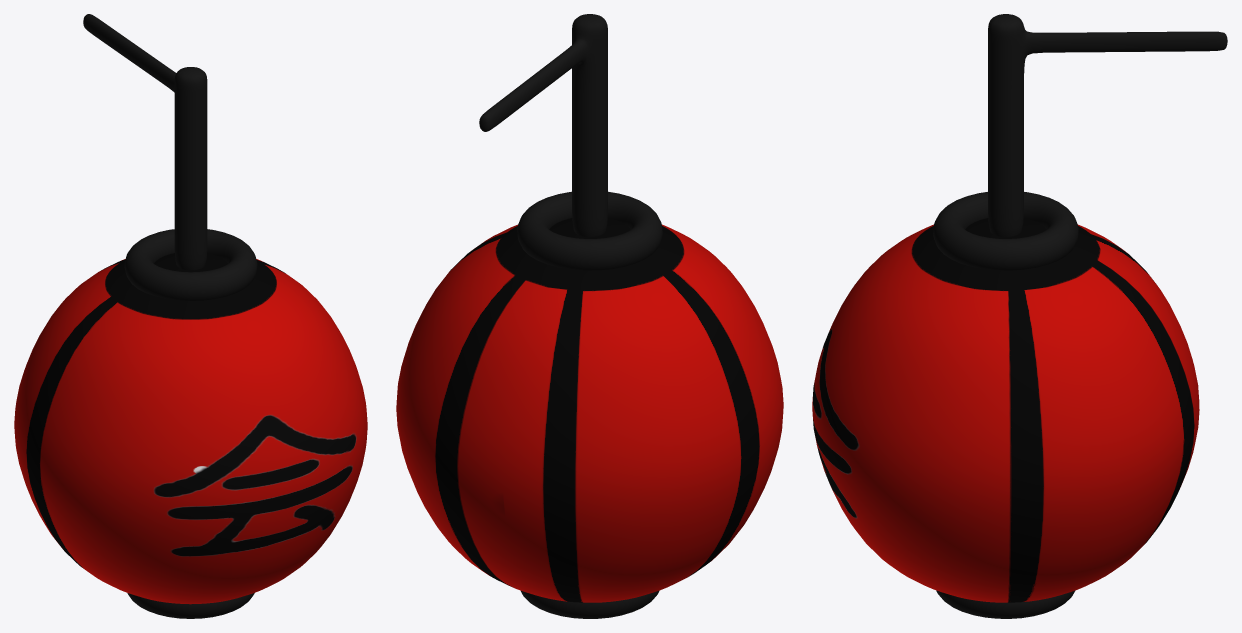
The model's file is SM_Lantern.fbx.
3 views of the same model, side by side, from view 1: azimuth 30°, elevation 25°; view 2: azimuth 150°, elevation 25°; view 3: azimuth 270°, elevation 25° (orthographic). The views are drawn at different scales.
Parts seen in each view (by area): view 1: Lamp, Hook, Ring.002, Ring; view 2: Lamp, Hook, Ring.002, Ring; view 3: Lamp, Hook, Ring.002, Ring.
Part boxes in pixels (bbox=[...]): Lamp: bbox=[14, 253, 367, 604]; Hook: bbox=[83, 14, 207, 270]; Ring.002: bbox=[124, 229, 257, 300]; Ring: bbox=[127, 593, 254, 618]; Lamp: bbox=[396, 218, 783, 602]; Hook: bbox=[479, 14, 607, 236]; Ring.002: bbox=[517, 191, 662, 270]; Ring: bbox=[521, 590, 659, 618]; Lamp: bbox=[812, 218, 1199, 602]; Hook: bbox=[988, 14, 1227, 236]; Ring.002: bbox=[933, 192, 1078, 270]; Ring: bbox=[936, 590, 1075, 618].
Bounding box in the file's own units: 19.34 × 31.77 × 20.75.
